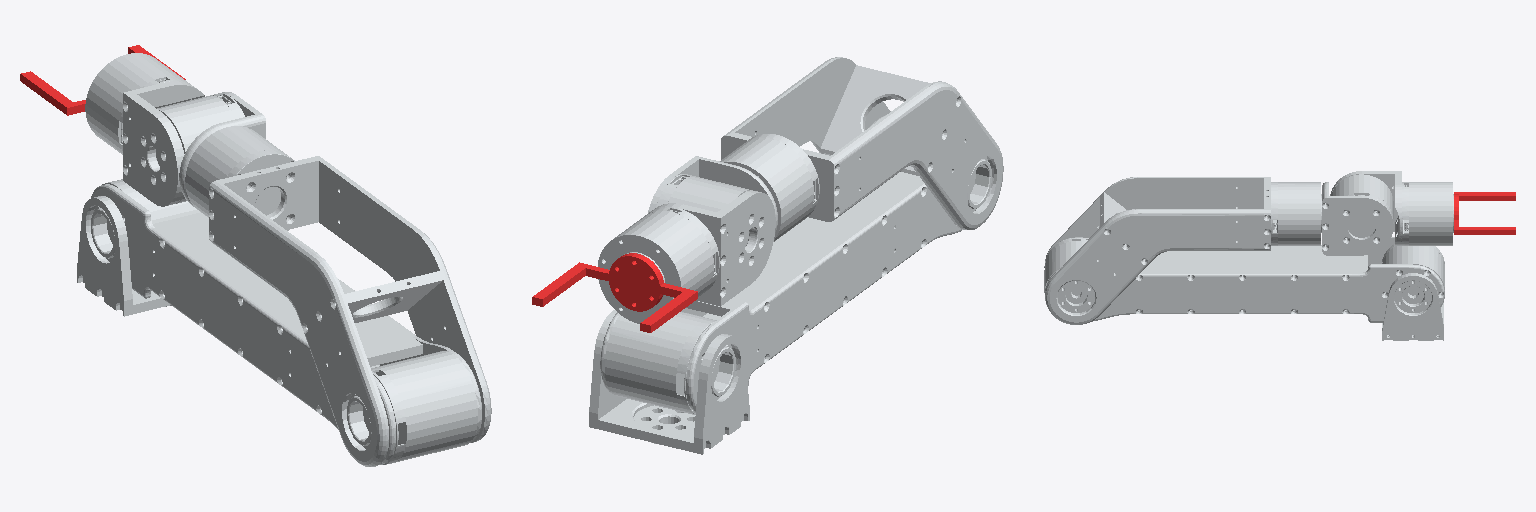
The robot description file, URDF, robot "arm_dm_description":
<?xml version="1.0" encoding="utf-8" ?>
<!-- This URDF was automatically created by SolidWorks to URDF Exporter! Originally created by [author] ([email redacted]) 
     Commit Version: 1.6.0-4-g7f85cfe  Build Version: 1.6.7995.38578
     For more information, please see http://wiki.ros.org/sw_urdf_exporter -->
<robot name="arm_dm_description">
    <link name="base_link">
        <inertial>
            <origin xyz="-1.46137629379788E-05 2.75642689147961E-09 0.0199631824979612" rpy="0 0 0" />
            <mass value="0.702519295110855" />
            <inertia ixx="0.000894881917226486" ixy="1.10467193567288E-08" ixz="1.13995040037864E-08" iyy="0.000897618335328178" iyz="-1.90844543770604E-12" izz="0.00165438984444192" />
        </inertial>
        <visual>
            <origin xyz="0 0 0" rpy="0 0 0" />
            <geometry>
                <mesh filename="package://arm_dm_description/meshes/base_link.STL" />
            </geometry>
            <material name="">
                <color rgba="0.898039215686275 0.917647058823529 0.929411764705882 1" />
            </material>
        </visual>
        <collision>
            <origin xyz="0 0 0" rpy="0 0 0" />
            <geometry>
                <mesh filename="package://arm_dm_description/meshes/base_link.STL" />
            </geometry>
        </collision>
    </link>
    <link name="link1">
        <inertial>
            <origin xyz="0.00251681133837719 7.62626579388154E-09 0.0321337362183331" rpy="0 0 0" />
            <mass value="0.253917962553707" />
            <inertia ixx="0.0001022269348581" ixy="-1.90844502004754E-12" ixz="4.84999075040344E-07" iyy="9.03127563428005E-05" iyz="-1.10467193719858E-08" izz="0.000100012976036778" />
        </inertial>
        <visual>
            <origin xyz="0 0 0" rpy="0 0 0" />
            <geometry>
                <mesh filename="package://arm_dm_description/meshes/link1.STL" />
            </geometry>
            <material name="">
                <color rgba="0.898039215686275 0.917647058823529 0.929411764705882 1" />
            </material>
        </visual>
        <collision>
            <origin xyz="0 0 0" rpy="0 0 0" />
            <geometry>
                <mesh filename="package://arm_dm_description/meshes/link1.STL" />
            </geometry>
        </collision>
    </link>
    <joint name="joint1" type="revolute">
        <origin xyz="0 0 0.06475" rpy="0 0 0" />
        <parent link="base_link" />
        <child link="link1" />
        <axis xyz="0 0 1" />
        <limit lower="-1.57" upper="1.57" effort="26" velocity="10" />
    </joint>
    <link name="link2">
        <inertial>
            <origin xyz="-0.00407027048622436 -0.177453625142632 -1.45527607683382E-05" rpy="0 0 0" />
            <mass value="0.704914852110896" />
            <inertia ixx="0.00427468861188416" ixy="-6.93726113167482E-08" ixz="1.11909081489798E-08" iyy="0.00019088997053301" iyz="-1.07059933662893E-08" izz="0.00430753026163207" />
        </inertial>
        <visual>
            <origin xyz="0 0 0" rpy="0 0 0" />
            <geometry>
                <mesh filename="package://arm_dm_description/meshes/link2.STL" />
            </geometry>
            <material name="">
                <color rgba="0.898039215686275 0.917647058823529 0.929411764705882 1" />
            </material>
        </visual>
        <collision>
            <origin xyz="0 0 0" rpy="0 0 0" />
            <geometry>
                <mesh filename="package://arm_dm_description/meshes/link2.STL" />
            </geometry>
        </collision>
    </link>
    <joint name="joint2" type="revolute">
        <origin xyz="0.00325 0 0.04575" rpy="0 0 0" />
        <parent link="link1" />
        <child link="link2" />
        <axis xyz="1 0 0" />
        <limit lower="-3.14" upper="0" effort="26" velocity="10" />
    </joint>
    <link name="link3">
        <inertial>
            <origin xyz="-0.00256996544938886 0.0992300014009788 0.0513973166478901" rpy="0 0 0" />
            <mass value="0.498936315806699" />
            <inertia ixx="0.00118220834869914" ixy="-2.07781005706596E-06" ixz="-1.41098785925431E-06" iyy="0.000330095783580661" iyz="-0.000310137643565769" izz="0.000962879266364354" />
        </inertial>
        <visual>
            <origin xyz="0 0 0" rpy="0 0 0" />
            <geometry>
                <mesh filename="package://arm_dm_description/meshes/link3.STL" />
            </geometry>
            <material name="">
                <color rgba="0.898039215686275 0.917647058823529 0.929411764705882 1" />
            </material>
        </visual>
        <collision>
            <origin xyz="0 0 0" rpy="0 0 0" />
            <geometry>
                <mesh filename="package://arm_dm_description/meshes/link3.STL" />
            </geometry>
        </collision>
    </link>
    <joint name="joint3" type="revolute">
        <origin xyz="0 -0.3 0" rpy="0 0 0" />
        <parent link="link2" />
        <child link="link3" />
        <axis xyz="1 0 0" />
        <limit lower="0" upper="2" effort="26" velocity="10" />
    </joint>
    <link name="link4">
        <inertial>
            <origin xyz="0.00349843934263894 0.0281530726765862 -1.06226259807829E-06" rpy="0 0 0" />
            <mass value="0.172153410314072" />
            <inertia ixx="6.97287274217218E-05" ixy="3.82185899081412E-09" ixz="-1.90903650224616E-12" iyy="5.82336212729525E-05" iyz="-2.19626289508917E-08" izz="5.08483454670493E-05" />
        </inertial>
        <visual>
            <origin xyz="0 0 0" rpy="0 0 0" />
            <geometry>
                <mesh filename="package://arm_dm_description/meshes/link4.STL" />
            </geometry>
            <material name="">
                <color rgba="0.898039215686275 0.917647058823529 0.929411764705882 1" />
            </material>
        </visual>
        <collision>
            <origin xyz="0 0 0" rpy="0 0 0" />
            <geometry>
                <mesh filename="package://arm_dm_description/meshes/link4.STL" />
            </geometry>
        </collision>
    </link>
    <joint name="joint4" type="revolute">
        <origin xyz="-0.00325 0.218 0.065" rpy="0 0 0" />
        <parent link="link3" />
        <child link="link4" />
        <axis xyz="0 -1 0" />
        <limit lower="-3" upper="3" effort="26" velocity="10" />
    </joint>
    <link name="link5">
        <inertial>
            <origin xyz="-0.00438010036091112 0.041868251011251 -2.81415661777806E-05" rpy="0 0 0" />
            <mass value="0.184224260839099" />
            <inertia ixx="7.13742224813337E-05" ixy="-9.31060168788829E-08" ixz="2.19555612954278E-08" iyy="7.00087445598478E-05" iyz="1.1424619267607E-08" izz="5.44960771466491E-05" />
        </inertial>
        <visual>
            <origin xyz="0 0 0" rpy="0 0 0" />
            <geometry>
                <mesh filename="package://arm_dm_description/meshes/link5.STL" />
            </geometry>
            <material name="">
                <color rgba="0.898039215686275 0.917647058823529 0.929411764705882 1" />
            </material>
        </visual>
        <collision>
            <origin xyz="0 0 0" rpy="0 0 0" />
            <geometry>
                <mesh filename="package://arm_dm_description/meshes/link5.STL" />
            </geometry>
        </collision>
    </link>
    <joint name="joint5" type="revolute">
        <origin xyz="-0.00275 0.036 0" rpy="0 0 0" />
        <parent link="link4" />
        <child link="link5" />
        <axis xyz="1 0 0" />
        <limit lower="-1.28" upper="1.28" effort="26" velocity="10" />
    </joint>
    <link name="link6">
        <inertial>
            <origin xyz="0.00274999999999711 0.0949319175712726 -9.43689570931383E-16" rpy="0 0 0" />
            <mass value="0.00922649161502716" />
            <inertia ixx="2.74241217443924E-06" ixy="-1.08141329152978E-19" ixz="5.19330119106018E-20" iyy="6.36279722590738E-06" iyz="7.69004481184196E-22" izz="8.3881846340608E-06" />
        </inertial>
        <visual>
            <origin xyz="0 0 0" rpy="0 0 0" />
            <geometry>
                <mesh filename="package://arm_dm_description/meshes/link6.STL" />
            </geometry>
            <material name="">
                <color rgba="1 0.247058823529412 0.247058823529412 1" />
            </material>
        </visual>
        <collision>
            <origin xyz="0 0 0" rpy="0 0 0" />
            <geometry>
                <mesh filename="package://arm_dm_description/meshes/link6.STL" />
            </geometry>
        </collision>
    </link>
    <joint name="joint6" type="revolute">
        <origin xyz="0 0 0" rpy="0 0 0" />
        <parent link="link5" />
        <child link="link6" />
        <axis xyz="0 -1 0" />
        <limit lower="-1.57" upper="1.57" effort="26" velocity="10" />
    </joint>
    <transmission name="trans_joint1">
        <type>transmission_interface/SimpleTransmission</type>
        <joint name="joint1">
            <hardwareInterface>hardware_interface/PositionJointInterface</hardwareInterface>
        </joint>
        <actuator name="joint1_motor">
            <hardwareInterface>hardware_interface/PositionJointInterface</hardwareInterface>
            <mechanicalReduction>1</mechanicalReduction>
        </actuator>
    </transmission>
    <transmission name="trans_joint2">
        <type>transmission_interface/SimpleTransmission</type>
        <joint name="joint2">
            <hardwareInterface>hardware_interface/PositionJointInterface</hardwareInterface>
        </joint>
        <actuator name="joint2_motor">
            <hardwareInterface>hardware_interface/PositionJointInterface</hardwareInterface>
            <mechanicalReduction>1</mechanicalReduction>
        </actuator>
    </transmission>
    <transmission name="trans_joint3">
        <type>transmission_interface/SimpleTransmission</type>
        <joint name="joint3">
            <hardwareInterface>hardware_interface/PositionJointInterface</hardwareInterface>
        </joint>
        <actuator name="joint3_motor">
            <hardwareInterface>hardware_interface/PositionJointInterface</hardwareInterface>
            <mechanicalReduction>1</mechanicalReduction>
        </actuator>
    </transmission>
    <transmission name="trans_joint4">
        <type>transmission_interface/SimpleTransmission</type>
        <joint name="joint4">
            <hardwareInterface>hardware_interface/PositionJointInterface</hardwareInterface>
        </joint>
        <actuator name="joint4_motor">
            <hardwareInterface>hardware_interface/PositionJointInterface</hardwareInterface>
            <mechanicalReduction>1</mechanicalReduction>
        </actuator>
    </transmission>
    <transmission name="trans_joint5">
        <type>transmission_interface/SimpleTransmission</type>
        <joint name="joint5">
            <hardwareInterface>hardware_interface/PositionJointInterface</hardwareInterface>
        </joint>
        <actuator name="joint5_motor">
            <hardwareInterface>hardware_interface/PositionJointInterface</hardwareInterface>
            <mechanicalReduction>1</mechanicalReduction>
        </actuator>
    </transmission>
    <transmission name="trans_joint6">
        <type>transmission_interface/SimpleTransmission</type>
        <joint name="joint6">
            <hardwareInterface>hardware_interface/PositionJointInterface</hardwareInterface>
        </joint>
        <actuator name="joint6_motor">
            <hardwareInterface>hardware_interface/PositionJointInterface</hardwareInterface>
            <mechanicalReduction>1</mechanicalReduction>
        </actuator>
    </transmission>
    <gazebo>
        <plugin name="gazebo_ros_control" filename="libgazebo_ros_control.so">
            <robotNamespace>/</robotNamespace>
        </plugin>
    </gazebo>
</robot>

--- What the picture shows (computed from the rendered views, not written in the file) ---
The picture shows the robot from 3 angles, left to right: view 1: azimuth 30°, elevation 25°; view 2: azimuth 150°, elevation 25°; view 3: azimuth 270°, elevation 25°; orthographic projection.
Model arm_dm_description with 7 links and 6 joints (6 revolute), rooted at base_link, posed all joints at 0.
Visible links, largest first — view 1: link3, link2, link5, link1, link4, link6; view 2: link3, link2, link1, link5, link6, link4; view 3: link3, link2, link4, link1, link5, link6.
Boxes of the visible links, x1,y1,x2,y2 form: link3: [185, 126, 491, 466]; link2: [91, 184, 481, 464]; link5: [85, 53, 204, 206]; link1: [77, 179, 199, 316]; link4: [156, 92, 265, 206]; link6: [20, 45, 185, 115]; link3: [720, 57, 1003, 241]; link2: [600, 115, 991, 413]; link1: [589, 310, 749, 454]; link5: [598, 190, 775, 323]; link6: [532, 253, 697, 332]; link4: [648, 156, 777, 246]; link3: [1045, 177, 1321, 324]; link2: [1044, 237, 1444, 322]; link4: [1322, 174, 1393, 255]; link1: [1382, 244, 1444, 340]; link5: [1330, 171, 1453, 245]; link6: [1454, 192, 1515, 234].
Bounding box of the posed robot: 0.08 × 0.4195 × 0.1415 m (x, y, z).
6 mesh visuals loaded from 7 distinct referenced files (6 binary STL); not drawn: 1 (reference not matched to a file when rendering).